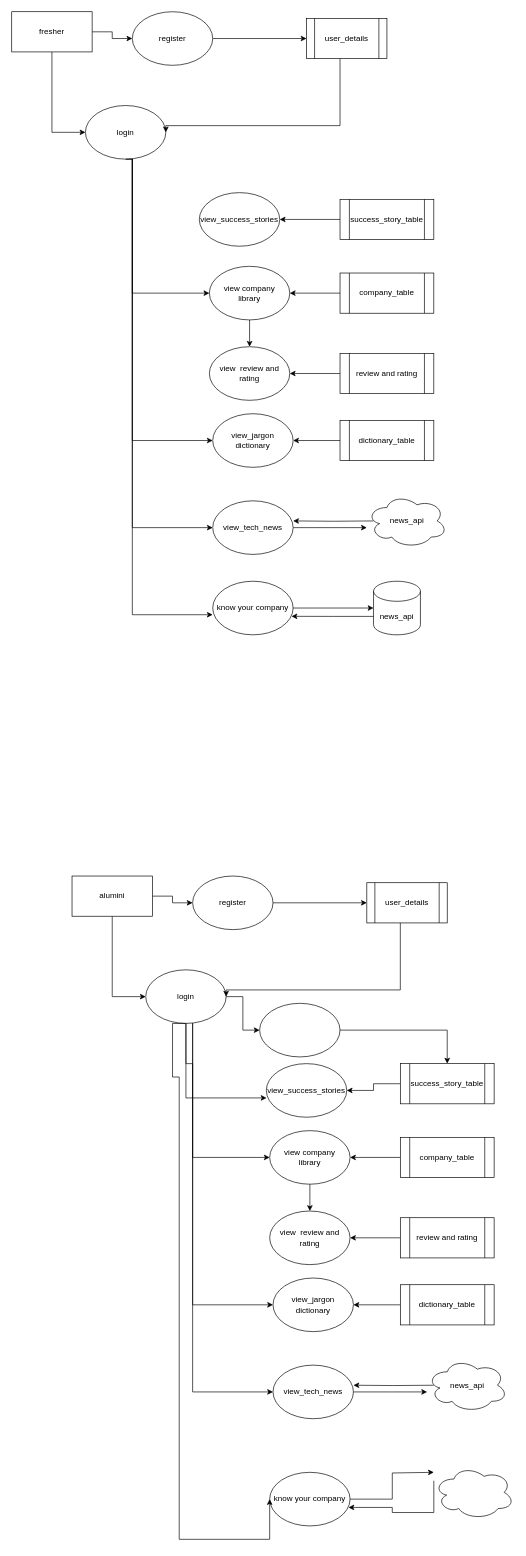
This 526x1556 diagram has some shape labels left out. Here are the shapes that lost their labels. From the top down, the box of each, then its label:
(259, 1003, 340, 1057): add_success_stories
(433, 1465, 514, 1519): company
